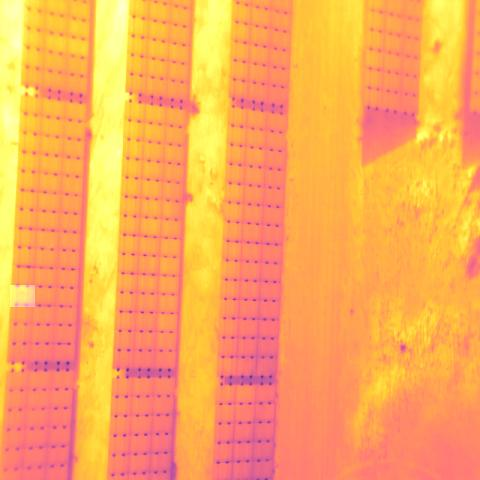fault: (10, 285, 35, 307)
